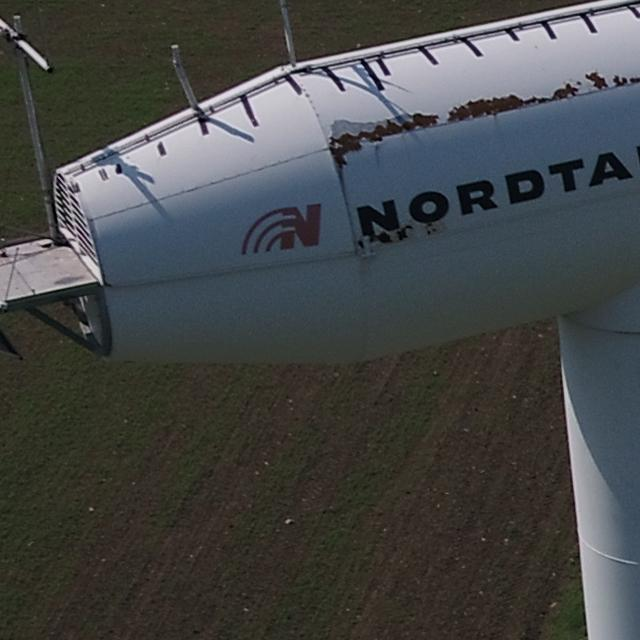damage: (320, 111, 442, 187), (446, 77, 582, 128), (579, 63, 610, 94), (612, 70, 629, 93), (397, 223, 416, 243), (375, 231, 395, 248), (425, 222, 439, 238), (632, 74, 639, 85)
